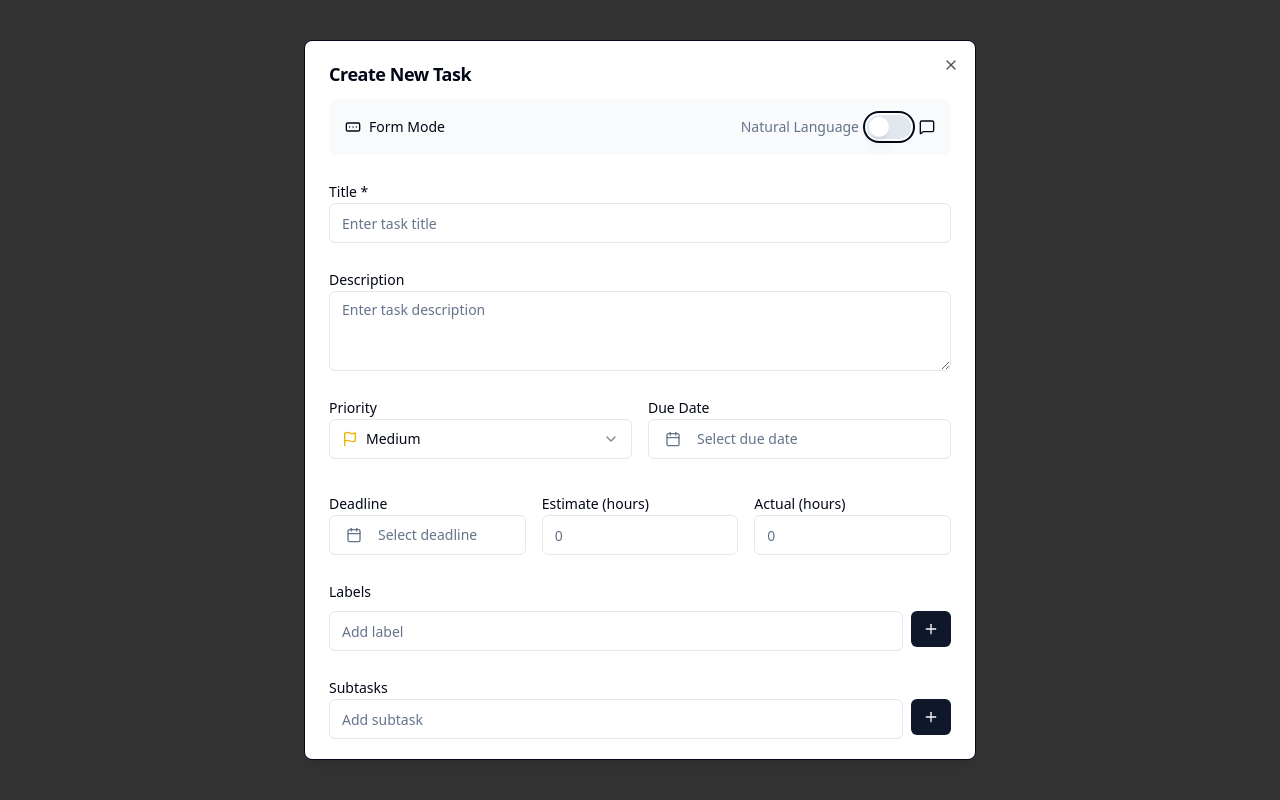
Scenario: TaskForm › shows loading state during submission
Type "Test Task" into the field labelled "Title *" at (640, 223), box [329,203,951,243]
(page scrolled)
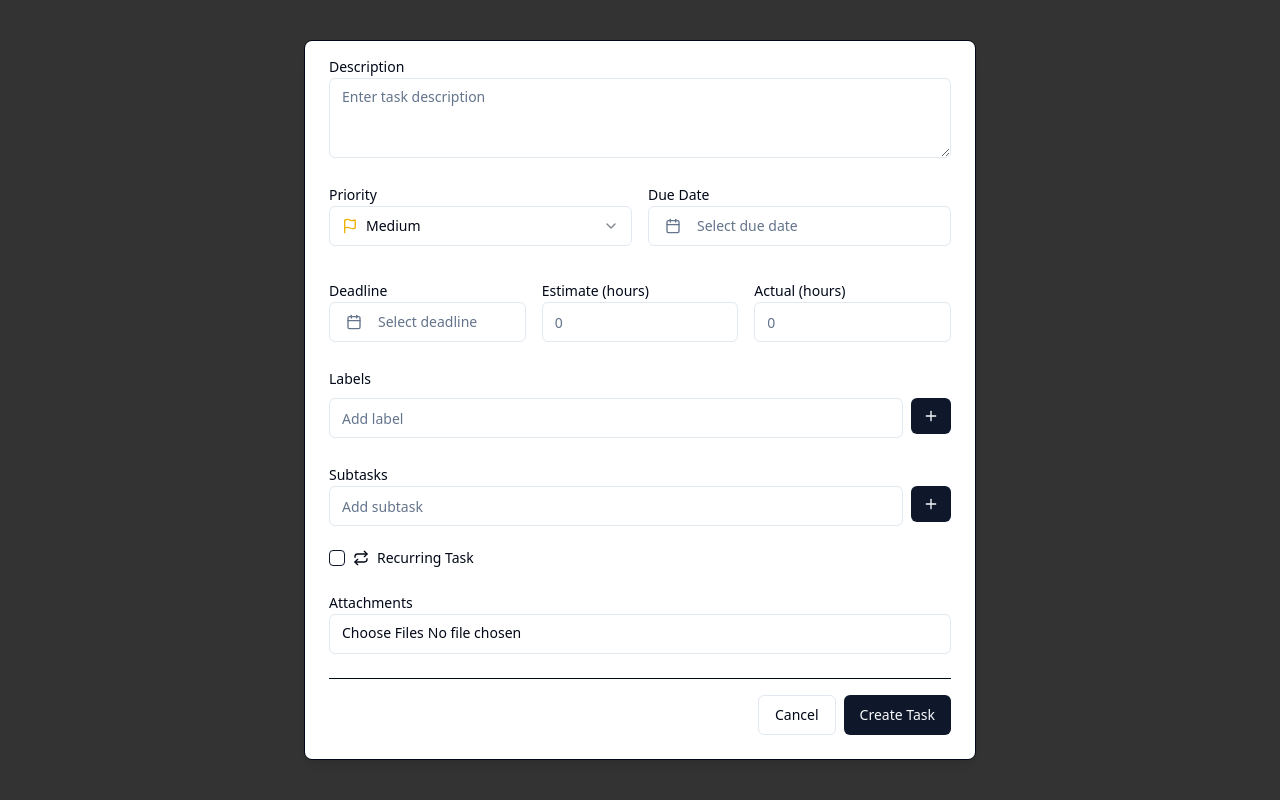
Click the button "Create Task" at (897, 715), box [844,695,951,735]
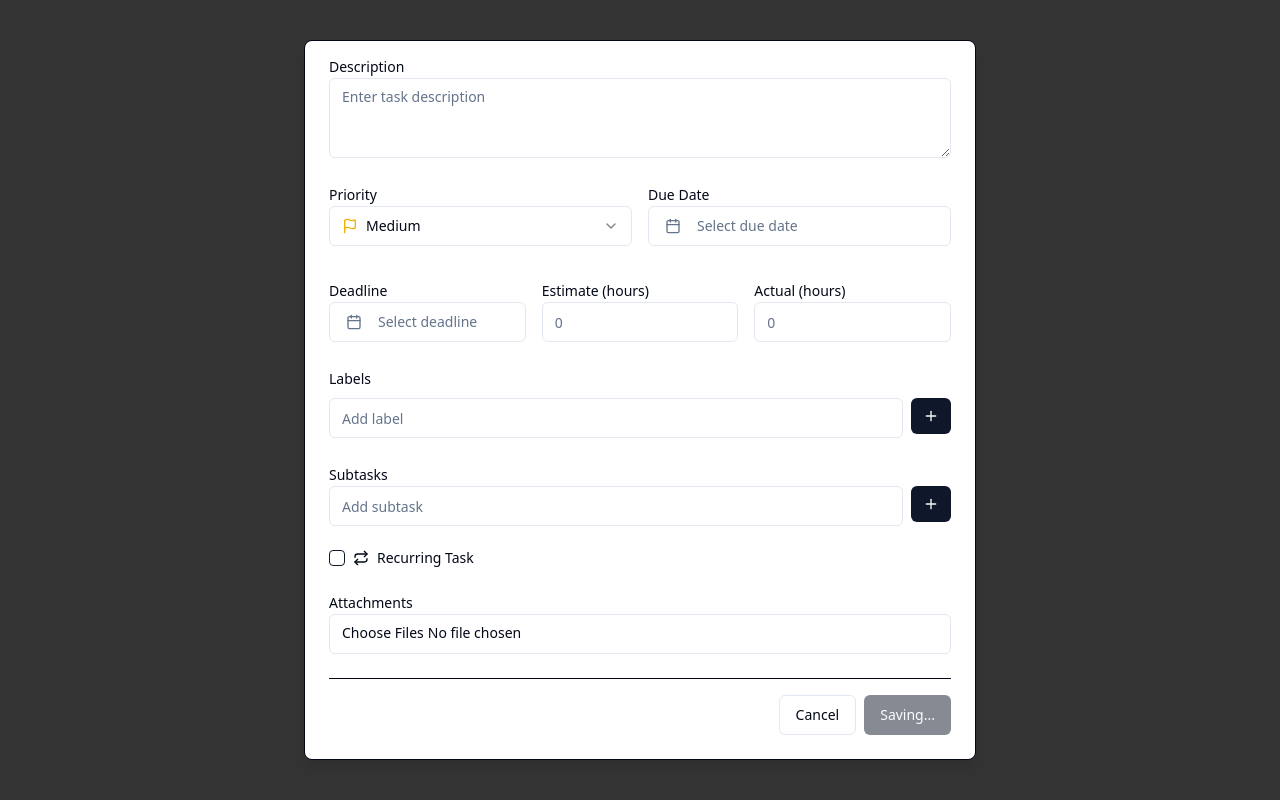
Now the button "Saving..." is disabled, box [864,695,951,735]
